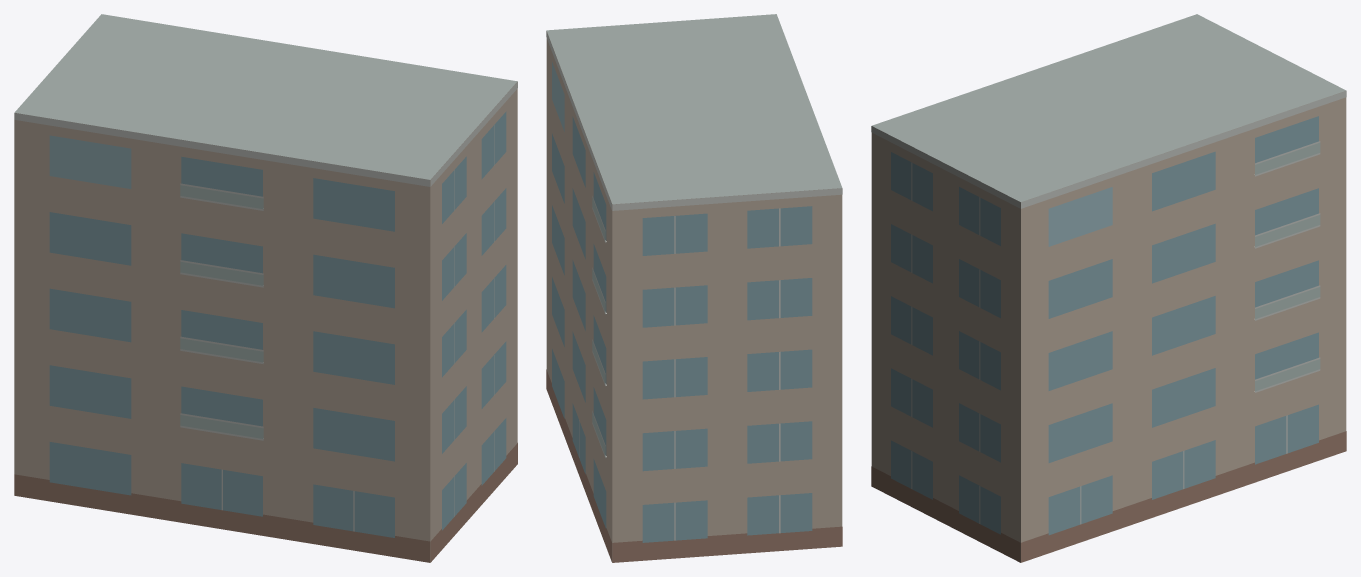
The model's file is survey-upis-32886713.glb.
3 renders of one model, left to right at view 1: azimuth 30°, elevation 25°; view 2: azimuth 150°, elevation 25°; view 3: azimuth 270°, elevation 25°, orthographic. The views are drawn at different scales.
Visible parts, largest first — view 1: survey-upis-32886713.tmp; view 2: survey-upis-32886713.tmp; view 3: survey-upis-32886713.tmp.
Part boxes in pixels (bbox=[...]): survey-upis-32886713.tmp: bbox=[14, 14, 517, 562]; survey-upis-32886713.tmp: bbox=[546, 14, 842, 562]; survey-upis-32886713.tmp: bbox=[871, 14, 1346, 562].
Size of the model in its own units: 14.85 by 13.25 by 15.83.
